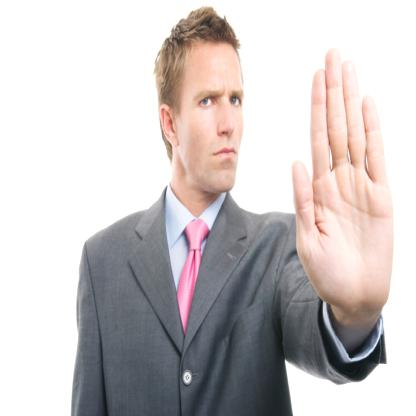Stop: (275, 51, 404, 312)
